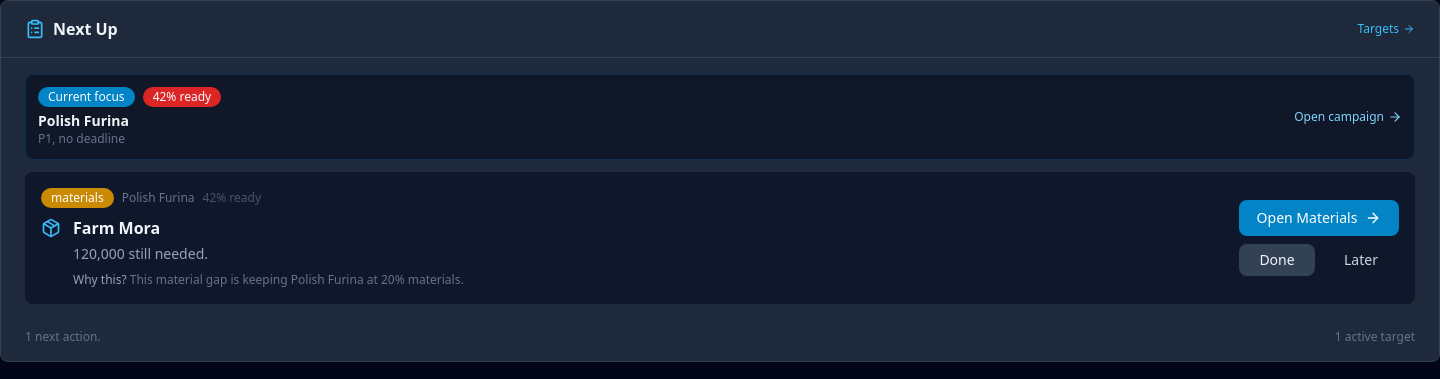
Scenario: CampaignNextActionsWidget › shows an all-handled state when every campaign action is handled today
Click the button "Later": x=1361, y=260 [1323,244,1399,276]
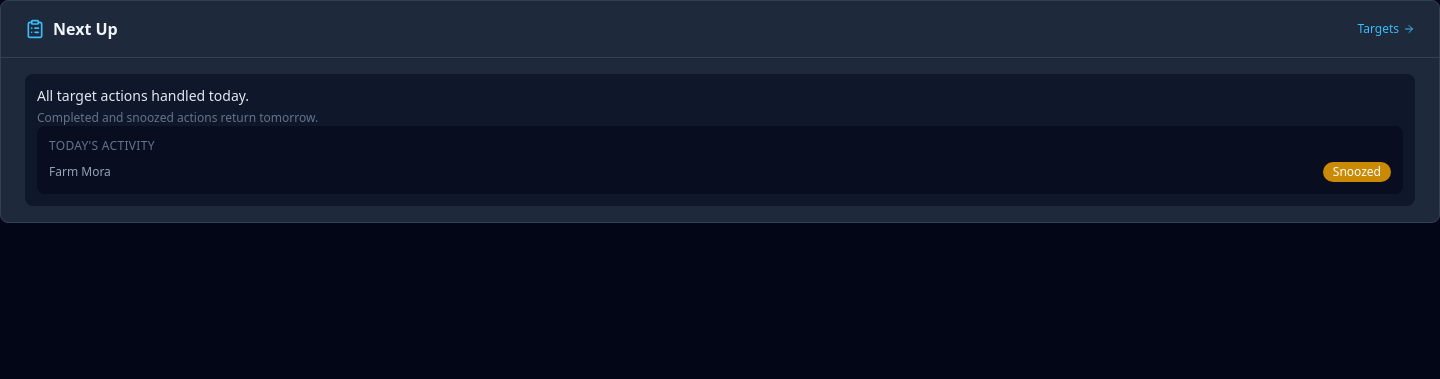
Now the text "All target actions handled today." is shown, box [37,86,249,105]
Now the text "Completed and snoozed actions return tomorrow." is shown, box [37,109,318,126]
Now the text "Snoozed" is shown, box [1323,162,1391,182]
